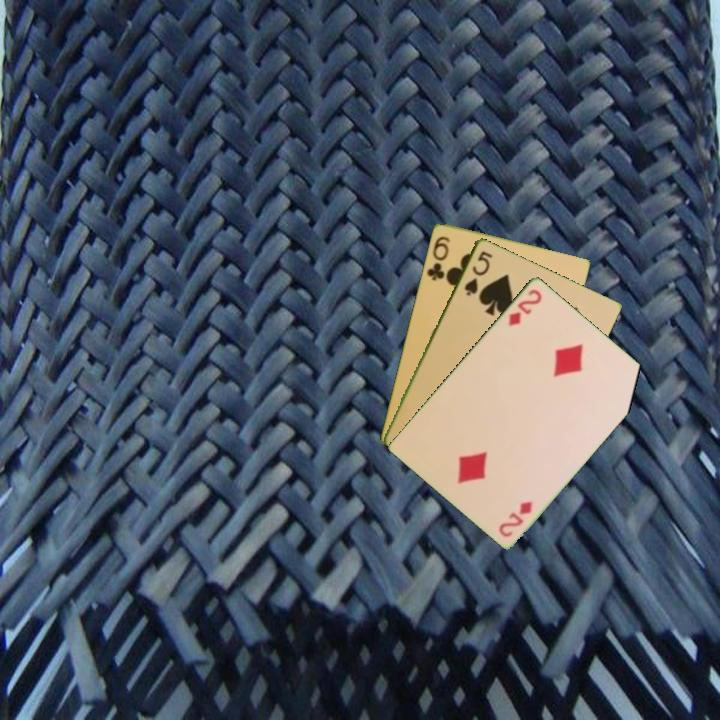2d: (505, 285, 545, 329), (495, 497, 535, 540)
5s: (460, 247, 495, 299)
6c: (423, 232, 452, 283)
